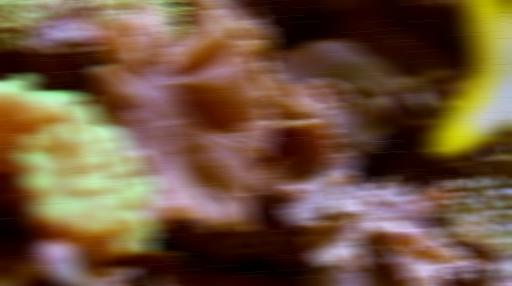Fish: (426, 0, 511, 158)
